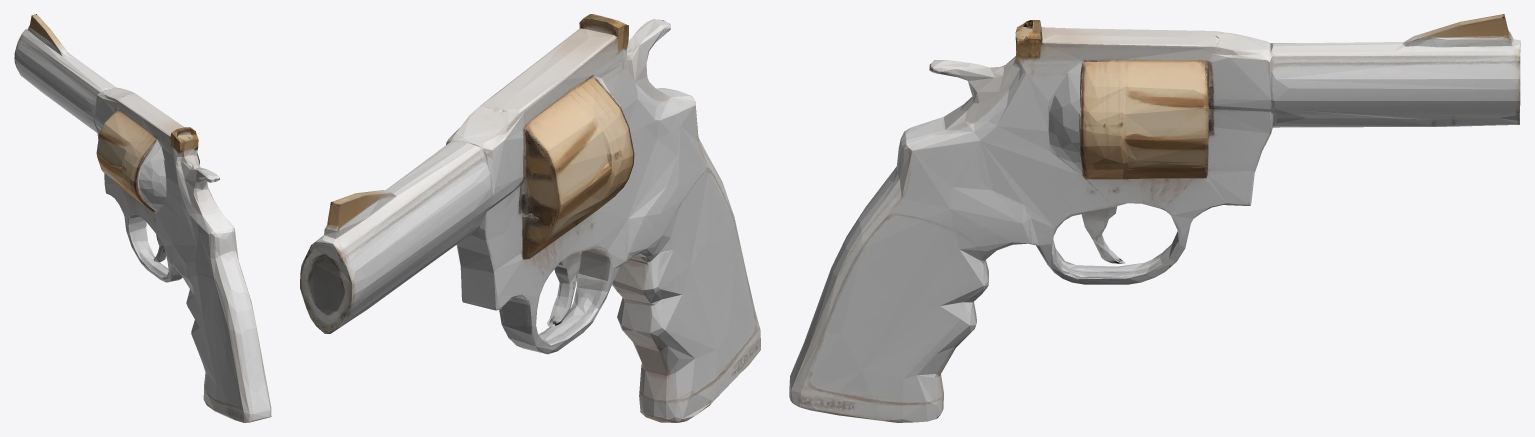
Rendered from white_revolver.glb.
The picture shows the model from 3 angles, left to right: view 1: azimuth 30°, elevation 25°; view 2: azimuth 150°, elevation 25°; view 3: azimuth 270°, elevation 25°; orthographic projection. The views are drawn at different scales.
Parts seen in each view (by area): view 1: geometry_0.001; view 2: geometry_0.001; view 3: geometry_0.001.
Part boxes in pixels (box(x1,y1,x2,y2)): geometry_0.001: box(14, 14, 271, 422); geometry_0.001: box(300, 14, 760, 422); geometry_0.001: box(789, 14, 1520, 422).
Size of the model in its own units: 0.0327 by 0.1153 by 0.1912.
Materials: 1 (1 with a texture image).
